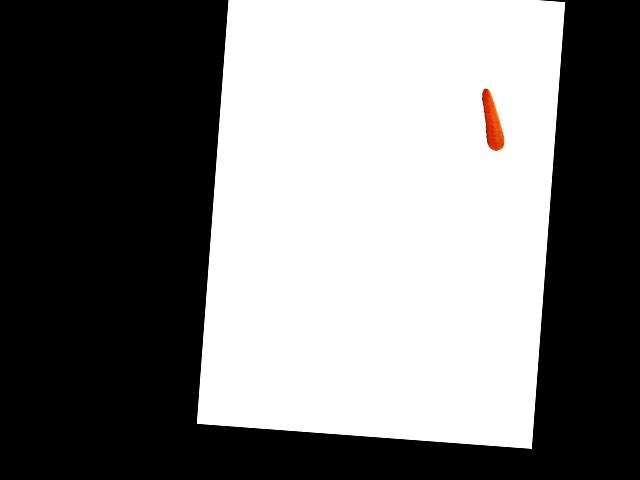carrot: (478, 85, 511, 152)
